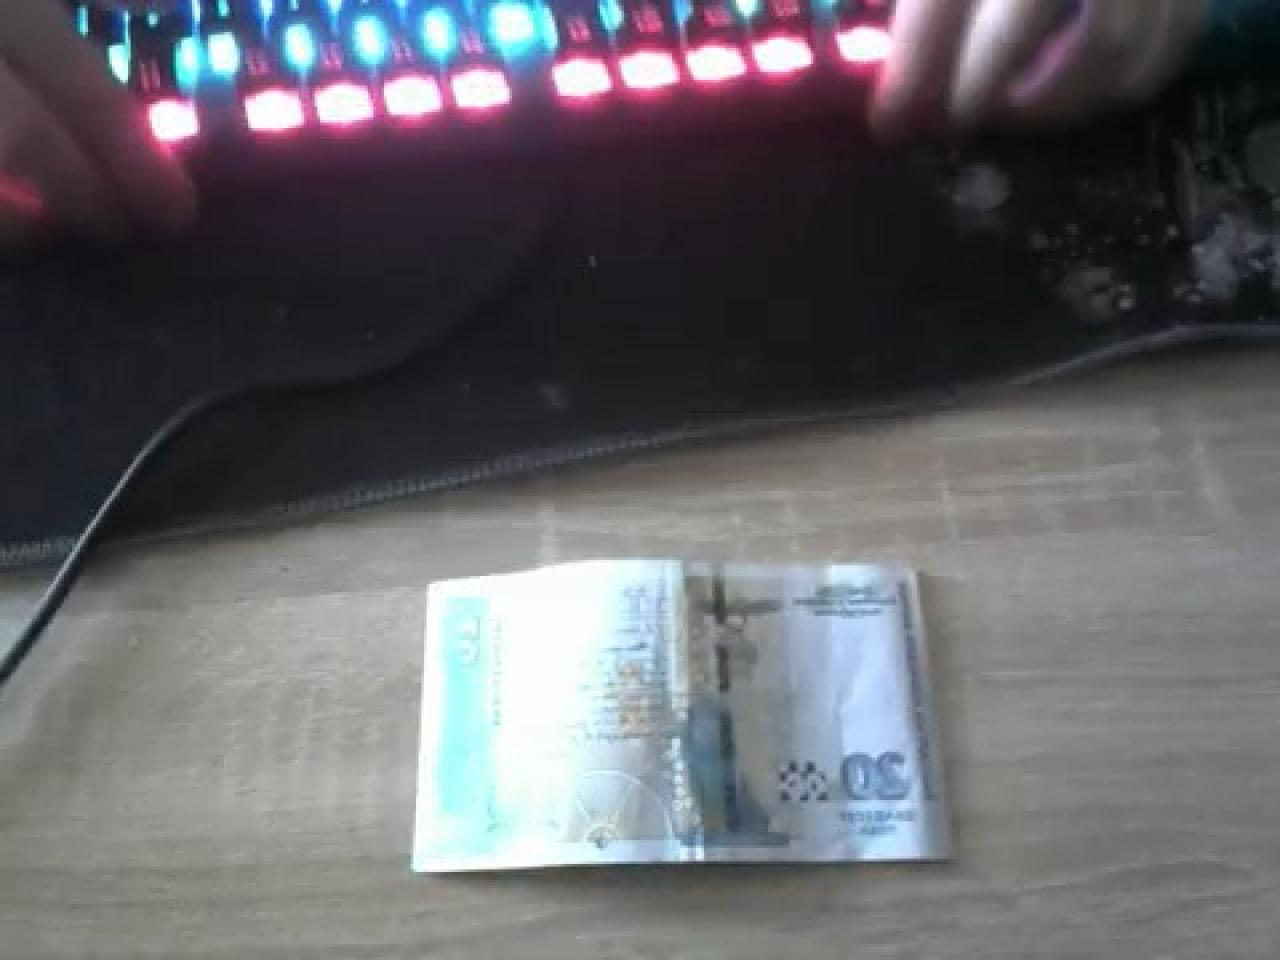20leva: (411, 560, 939, 877)
